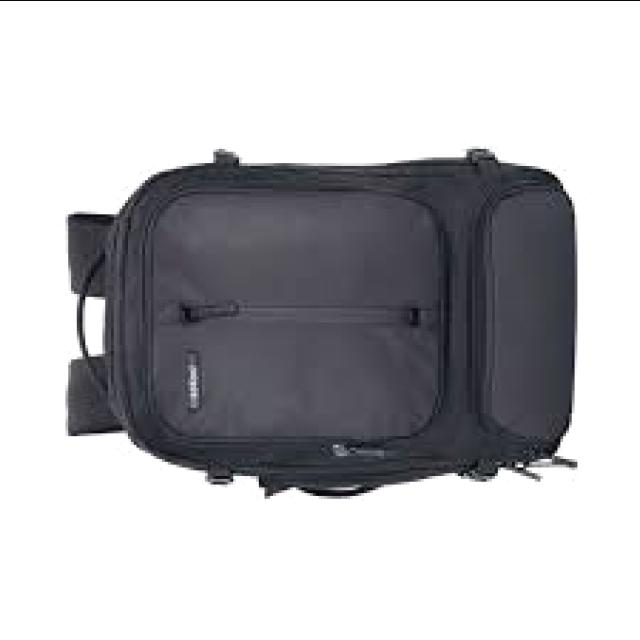backpack: (64, 150, 579, 502)
